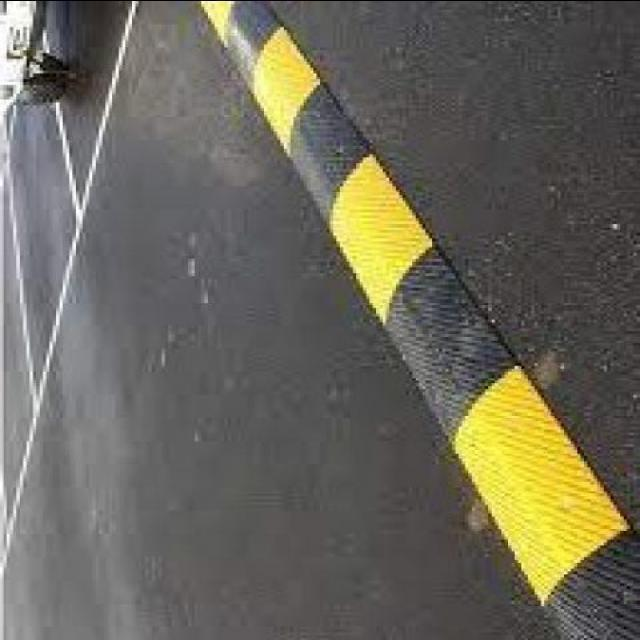Speed_Breaker: (188, 0, 640, 640), (194, 0, 639, 639)
